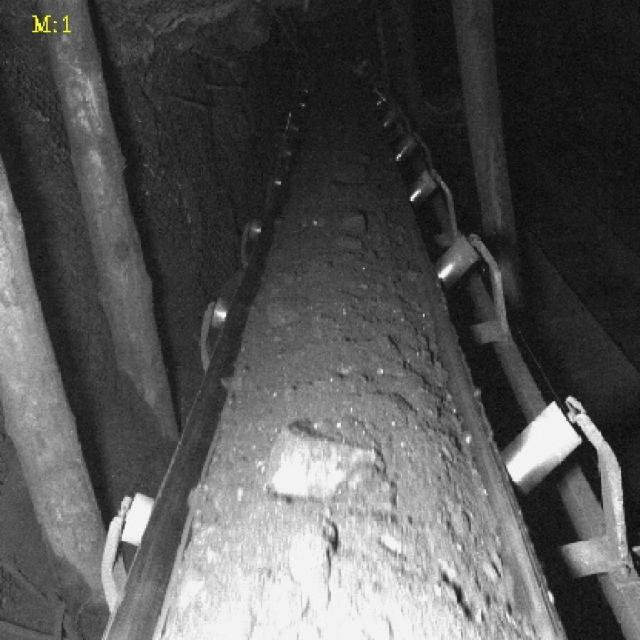large_sized_coal: (269, 431, 382, 500), (291, 523, 335, 588), (332, 214, 368, 257)
